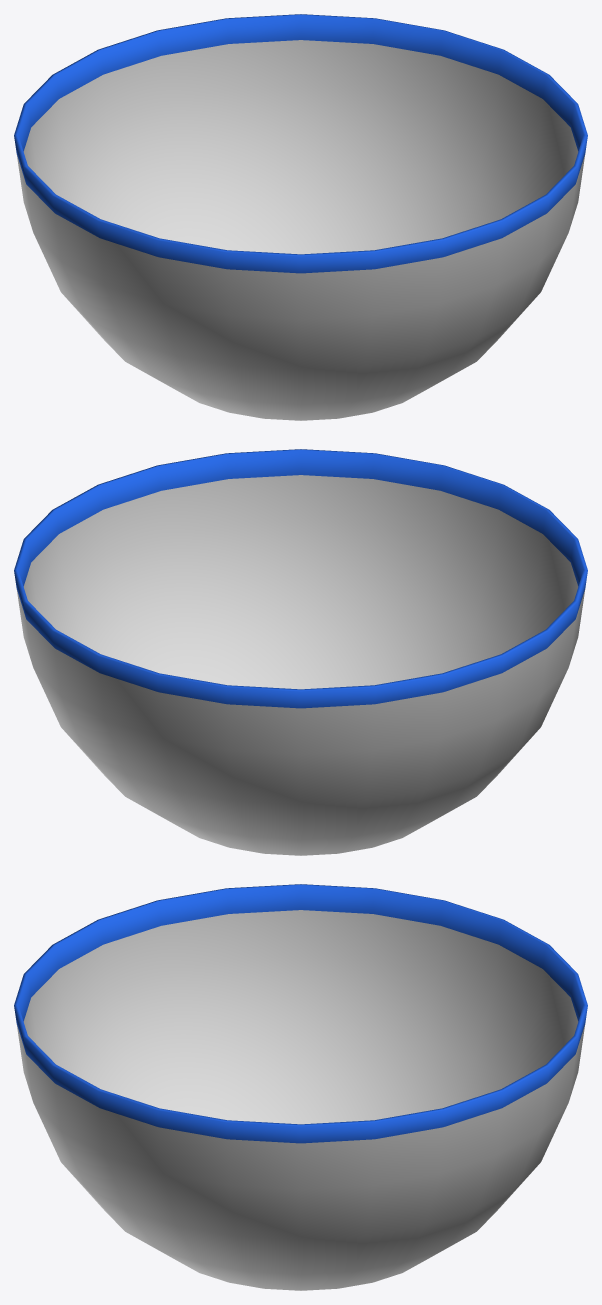
Rendered from single_bowl.fbx.
3 views of the same model, one above another, from view 1: azimuth 30°, elevation 25°; view 2: azimuth 150°, elevation 25°; view 3: azimuth 270°, elevation 25° (orthographic).
Parts seen in each view (by area): view 1: bowl; view 2: bowl; view 3: bowl.
Part boxes in pixels (x1,y1,x2,y2): bowl: (14,14,587,420); bowl: (14,449,587,855); bowl: (14,884,587,1290).
Size of the model in its own units: 146 by 71.87 by 146.
